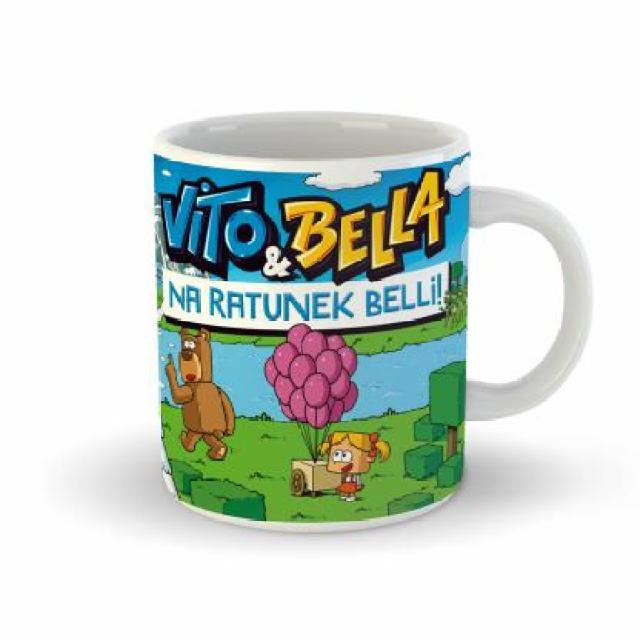cup: (149, 108, 598, 538)
